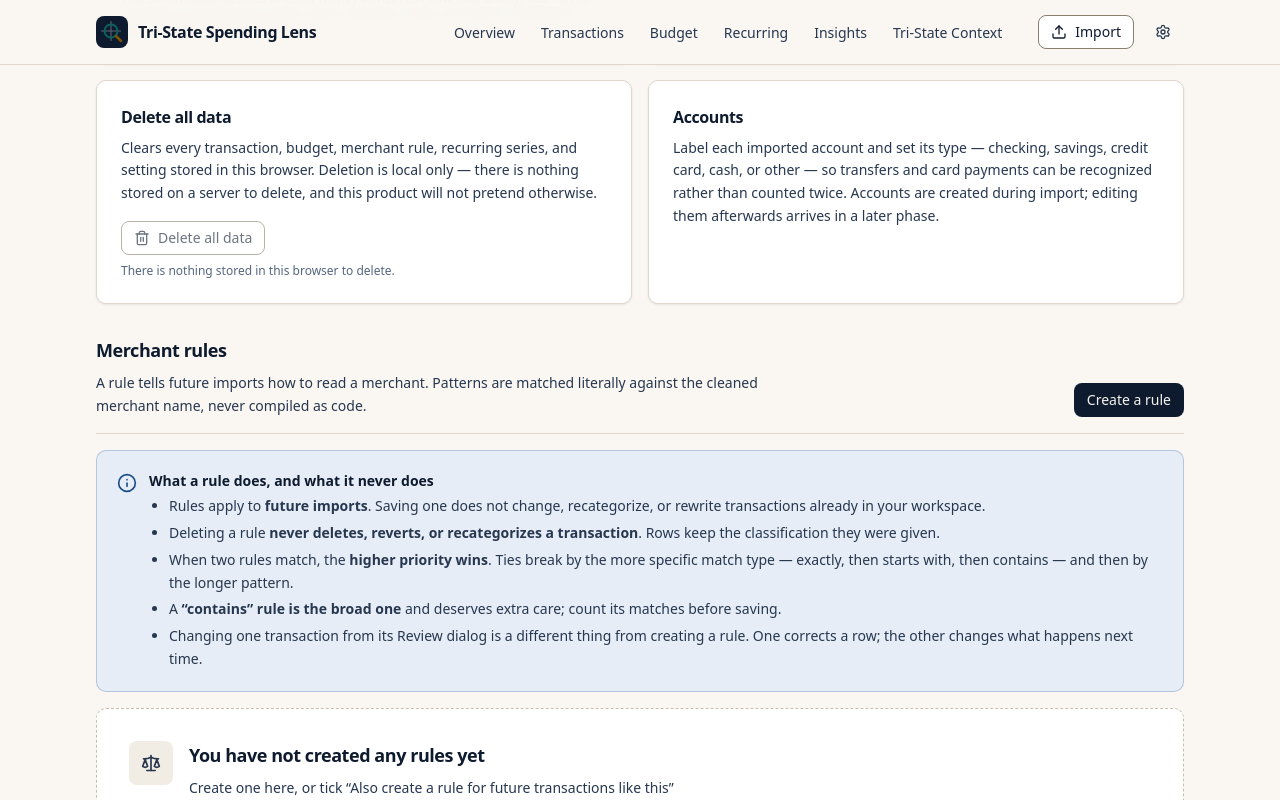
Scenario: creating a rule › restores focus to the control that opened the dialog
(page scrolled)
Check: the heading "Merchant rules" is shown, box [96,338,226,362]
Click the button "Create a rule" at coordinates (1129, 400), box [1074,383,1184,417]
(page scrolled)
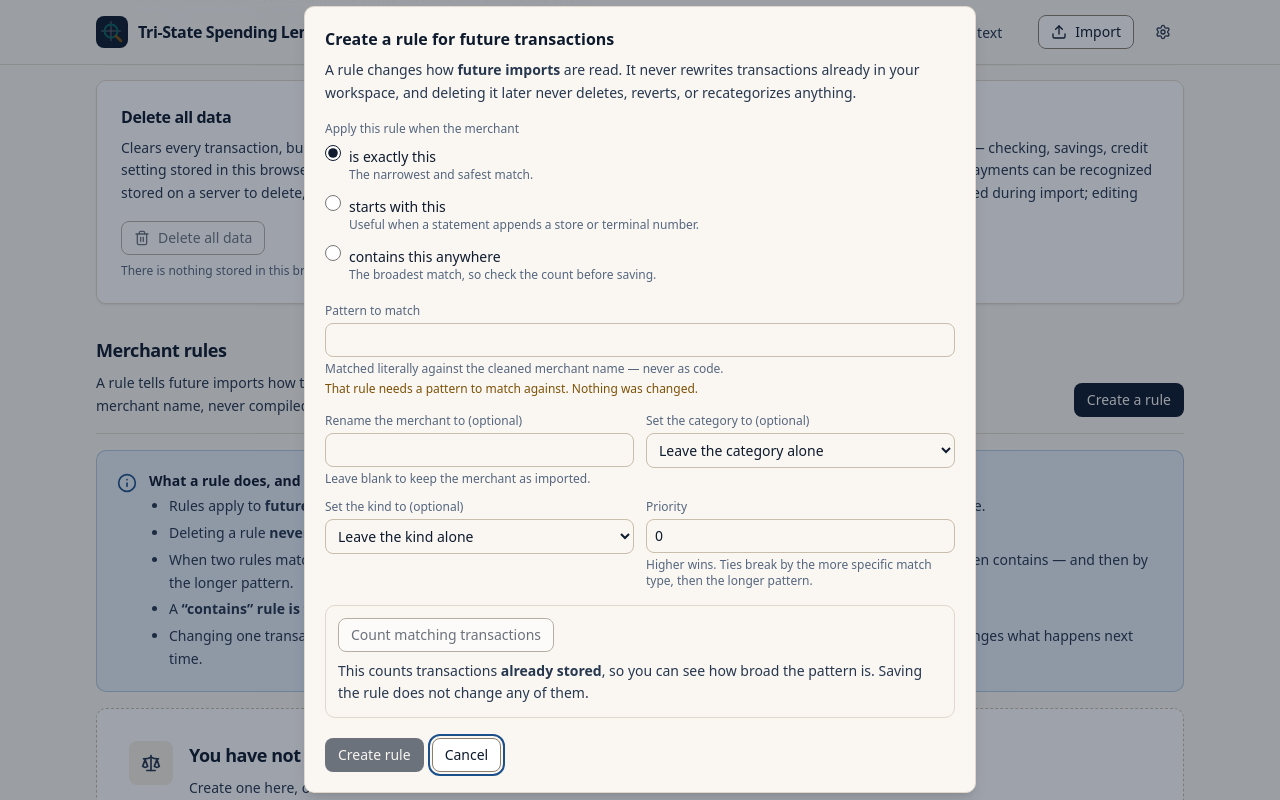
Check: the dialog is shown, box [304,6,976,793]
Press Escape
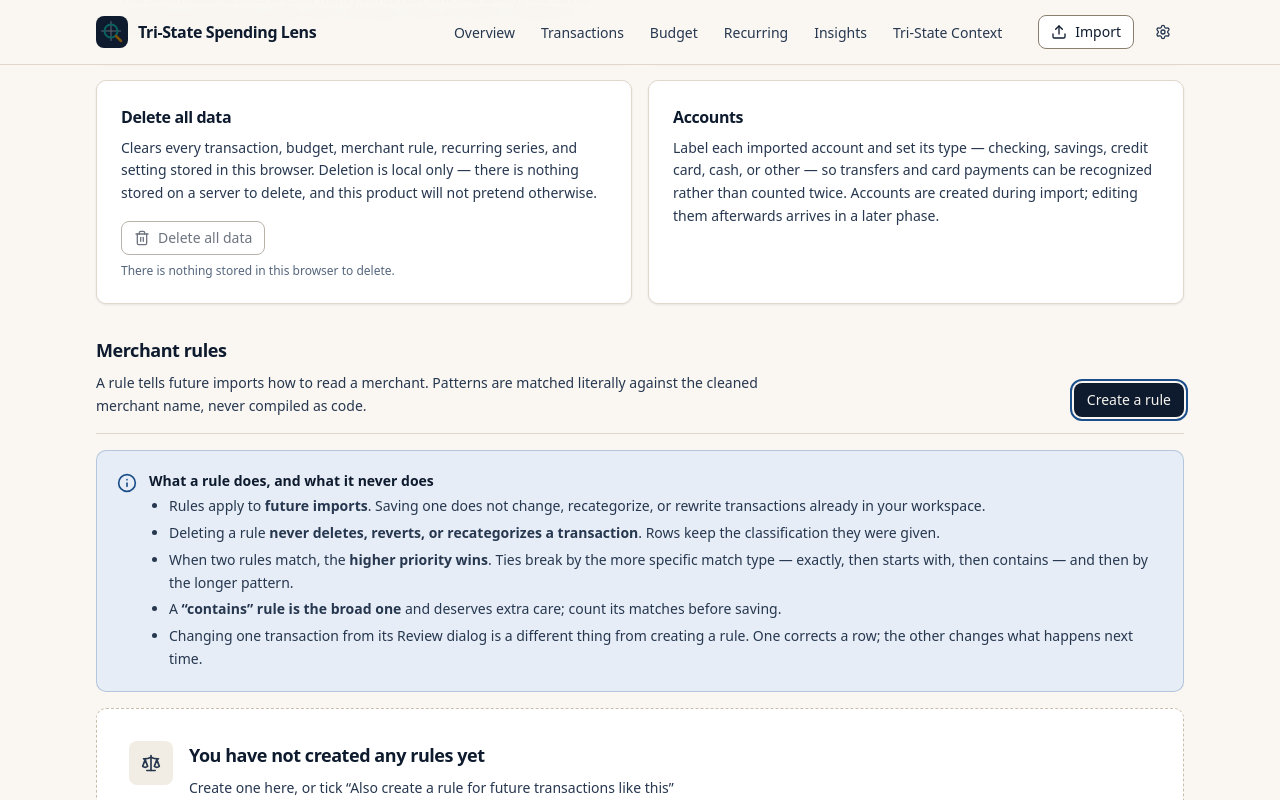
Check: the dialog is gone
